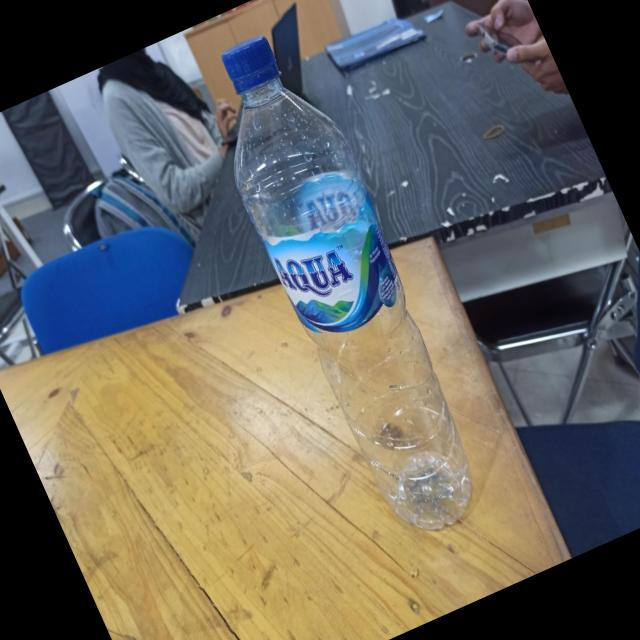BotolPlastik: (181, 17, 509, 550)
